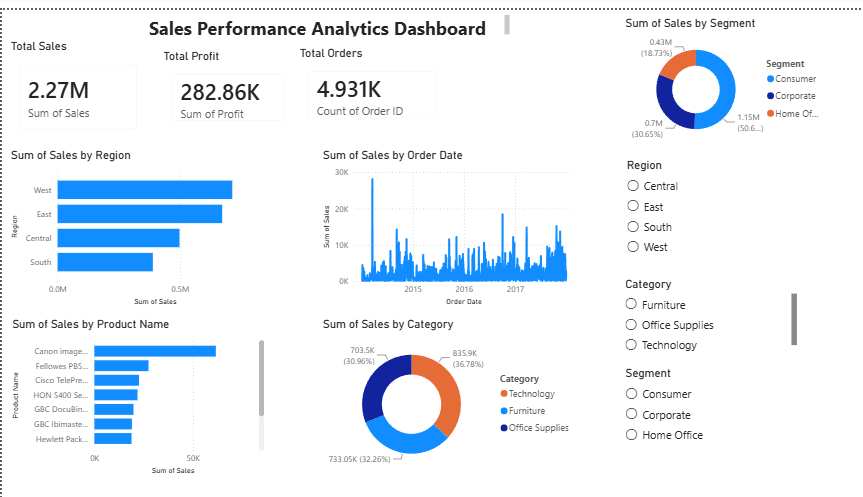

Layout of this report page (visuals, bound fields, positions):
{"tool":"powerbi","page":{"name":"Page 1","canvas":[1280,720],"ordinal":0},"visuals":[{"type":"cardVisual","title":"Total Sales","fields":{"Data":["Sum(ai_sales_dashboard sales_data.Sales)"]},"box":[8.9,44.4,207.8,148.9],"z":0},{"type":"cardVisual","title":"Total Profit","fields":{"Data":["Sum(ai_sales_dashboard sales_data.Profit)"]},"box":[231.1,57.8,200,122.2],"z":1000},{"type":"cardVisual","title":"Total Orders","fields":{"Data":["Count(ai_sales_dashboard sales_data.Order ID)"]},"box":[431.1,53.3,224.4,122.2],"z":2000},{"type":"barChart","fields":{"Category":["ai_sales_dashboard sales_data.Region"],"Y":["Sum(ai_sales_dashboard sales_data.Sales)"]},"box":[8.6,204.3,380,234.3],"z":3000},{"type":"lineChart","fields":{"Category":["ai_sales_dashboard sales_data.Order Date"],"Y":["Sum(ai_sales_dashboard sales_data.Sales)"]},"box":[465.7,204.3,380,234.3],"z":4000},{"type":"barChart","fields":{"Category":["ai_sales_dashboard sales_data.Product Name"],"Y":["Sum(ai_sales_dashboard sales_data.Sales)"]},"box":[9,452,380,234],"z":4001},{"type":"donutChart","fields":{"Category":["ai_sales_dashboard sales_data.Category"],"Y":["Sum(ai_sales_dashboard sales_data.Sales)"]},"box":[466,452,380,234],"z":4002},{"type":"donutChart","fields":{"Category":["ai_sales_dashboard sales_data.Segment"],"Y":["Sum(ai_sales_dashboard sales_data.Sales)"]},"box":[910,10,306,194],"z":4003},{"type":"listSlicer","fields":{"Values":["ai_sales_dashboard sales_data.Region"]},"box":[912,218,290,156],"z":4004},{"type":"listSlicer","fields":{"Values":["ai_sales_dashboard sales_data.Category"]},"box":[910,392,262,118],"z":4005},{"type":"listSlicer","fields":{"Values":["ai_sales_dashboard sales_data.Segment"]},"box":[910,524,262,176],"z":4006},{"type":"textbox","box":[655,53,191,150],"z":4007},{"type":"textbox","box":[210,2,540,42],"z":4008}]}

Visuals, with their boxes in screenshot pixels (x1, y1, x2, y2), scaled from the page's 1280x720 canvas onto the 863x497 screenshot:
"Total Sales" cardVisual: <bbox>6, 31, 146, 133</bbox>
"Total Profit" cardVisual: <bbox>156, 40, 291, 124</bbox>
"Total Orders" cardVisual: <bbox>291, 37, 442, 121</bbox>
barChart - ai_sales_dashboard sales_data.Region x Sum(ai_sales_dashboard sales_data.Sales): <bbox>6, 141, 262, 303</bbox>
lineChart - ai_sales_dashboard sales_data.Order Date x Sum(ai_sales_dashboard sales_data.Sales): <bbox>314, 141, 570, 303</bbox>
barChart - ai_sales_dashboard sales_data.Product Name x Sum(ai_sales_dashboard sales_data.Sales): <bbox>6, 312, 262, 474</bbox>
donutChart - ai_sales_dashboard sales_data.Category x Sum(ai_sales_dashboard sales_data.Sales): <bbox>314, 312, 570, 474</bbox>
donutChart - ai_sales_dashboard sales_data.Segment x Sum(ai_sales_dashboard sales_data.Sales): <bbox>614, 7, 820, 141</bbox>
listSlicer - ai_sales_dashboard sales_data.Region: <bbox>615, 150, 810, 258</bbox>
listSlicer - ai_sales_dashboard sales_data.Category: <bbox>614, 271, 790, 352</bbox>
listSlicer - ai_sales_dashboard sales_data.Segment: <bbox>614, 362, 790, 483</bbox>
textbox: <bbox>442, 37, 570, 140</bbox>
textbox: <bbox>142, 1, 506, 30</bbox>
